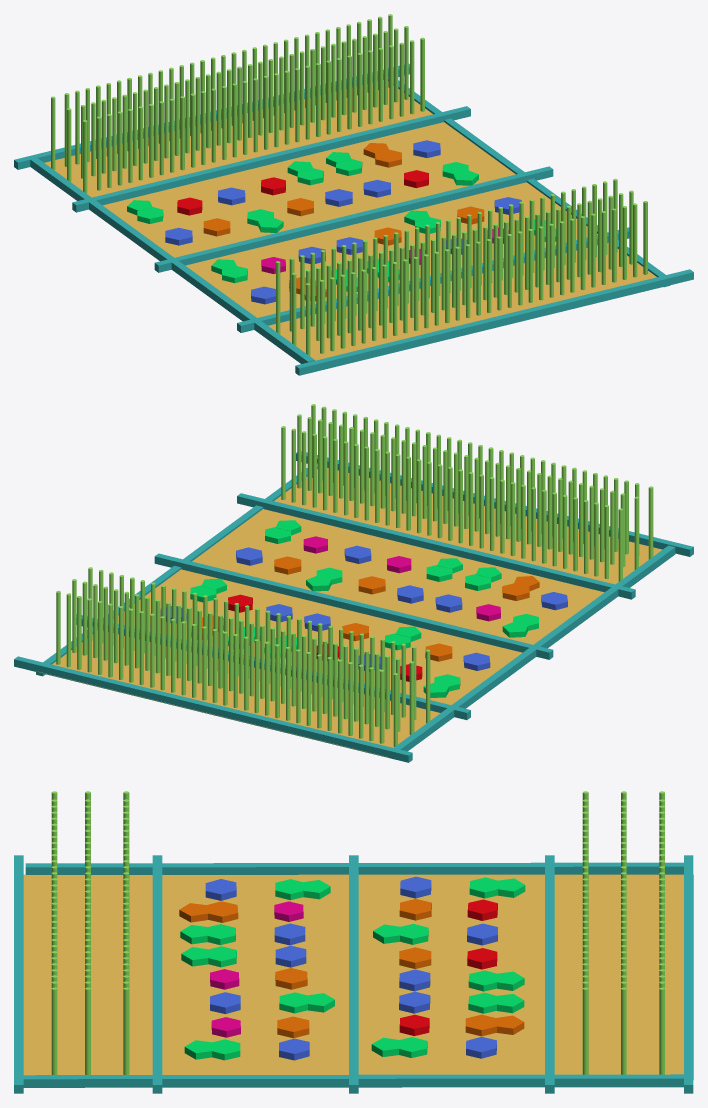
File: Edifcio Celula Fazenda.fbx
The picture shows the model from 3 angles, top to bottom: view 1: azimuth 30°, elevation 25°; view 2: azimuth 150°, elevation 25°; view 3: azimuth 270°, elevation 25°; orthographic projection. The views are drawn at different scales.
Parts seen in each view (by area): view 1: Cubo.033; view 2: Cubo.033; view 3: Cubo.033.
Part boxes in pixels (<box>): Cubo.033: <box>14,14,693,375</box>; Cubo.033: <box>14,404,693,762</box>; Cubo.033: <box>14,791,693,1093</box>.
Size of the model in its own units: 11348 by 2125 by 14211.
